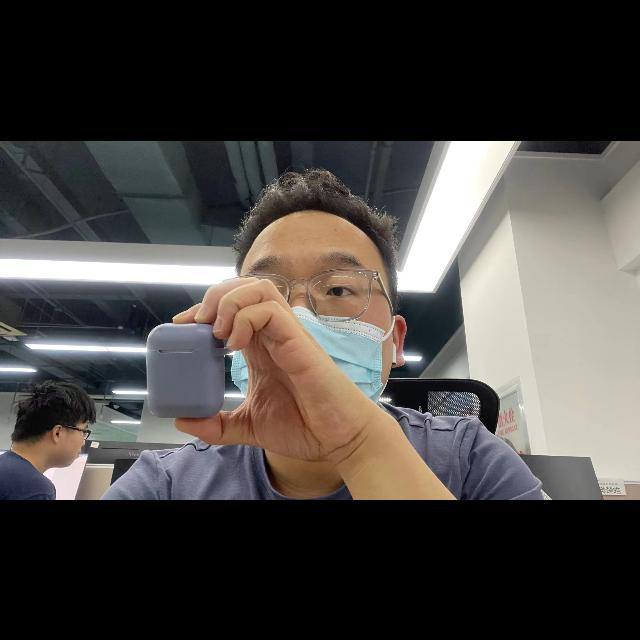airpods: (146, 322, 234, 419)
